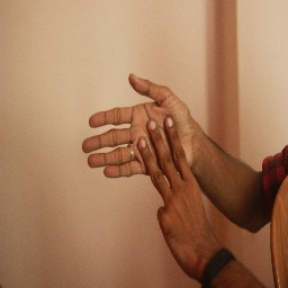M: (80, 70, 201, 201)
